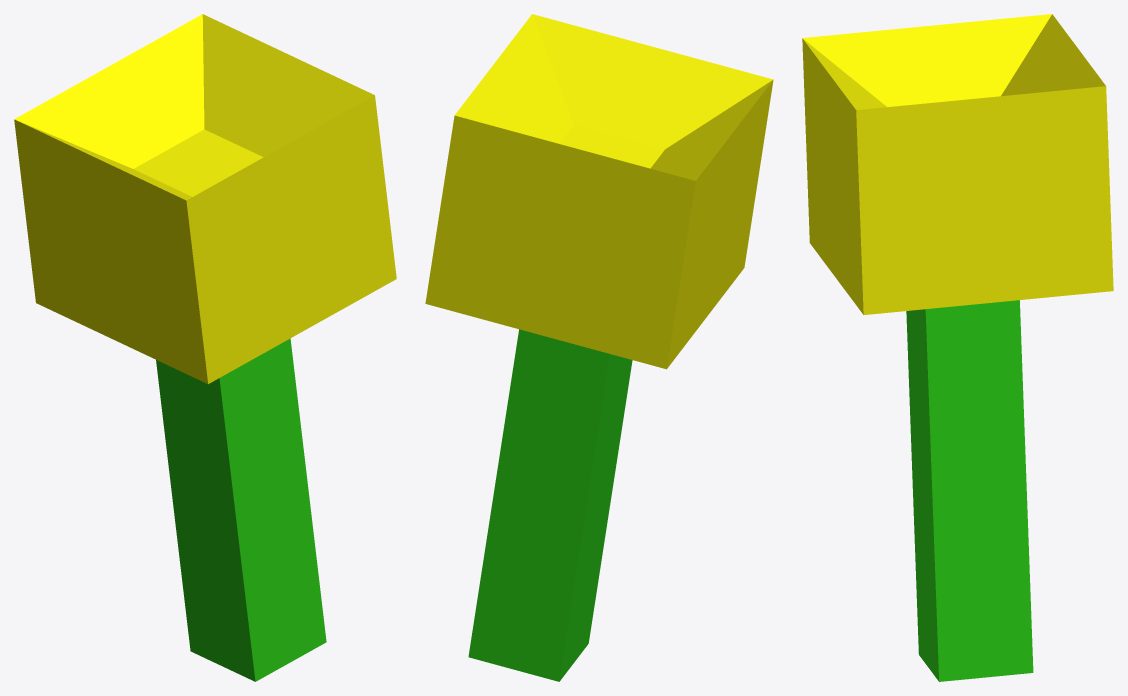
File: tulip_yellow.fbx
The picture shows the model from 3 angles, left to right: view 1: azimuth 30°, elevation 25°; view 2: azimuth 150°, elevation 25°; view 3: azimuth 270°, elevation 25°; orthographic projection.
Visible parts, largest first — view 1: Cube.078; view 2: Cube.078; view 3: Cube.078.
Boxes of the visible parts, x1=… form: Cube.078: x1=14, y1=14, x2=396, y2=681; Cube.078: x1=425, y1=14, x2=773, y2=681; Cube.078: x1=802, y1=14, x2=1113, y2=681.
Bounding box in the file's own units: 25.65 × 50.12 × 24.02.
1 material, 1 textured.
